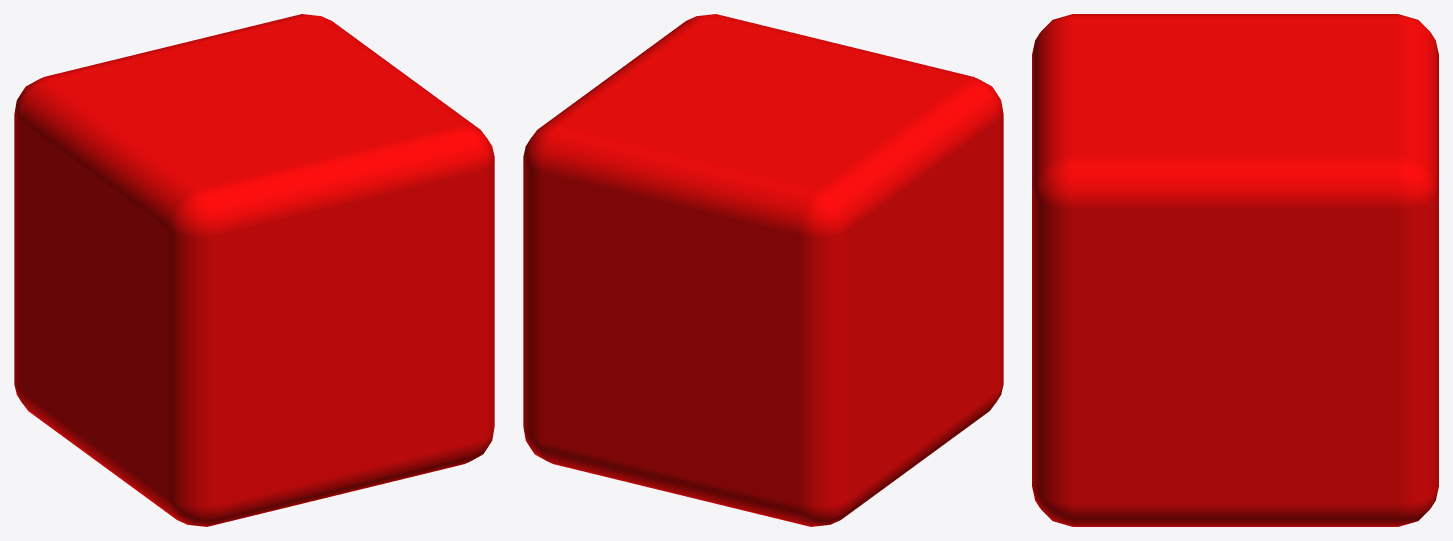
3 views of the same model, side by side, from view 1: azimuth 30°, elevation 25°; view 2: azimuth 150°, elevation 25°; view 3: azimuth 270°, elevation 25° (orthographic). The views are drawn at different scales.
Parts seen in each view (by area): view 1: Cube (Change color here pls); view 2: Cube (Change color here pls); view 3: Cube (Change color here pls).
Boxes of the visible parts, x1=… form: Cube (Change color here pls): x1=14, y1=14, x2=494, y2=526; Cube (Change color here pls): x1=523, y1=14, x2=1003, y2=526; Cube (Change color here pls): x1=1032, y1=14, x2=1438, y2=526.
Bounding box in the file's own units: 1 × 0.9954 × 0.9985.
